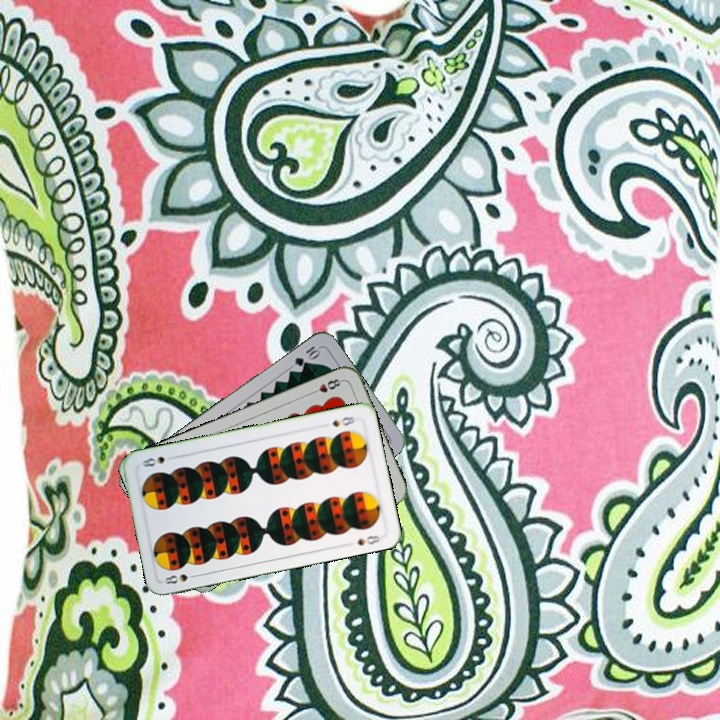G10: (291, 342, 323, 369)
H8: (307, 375, 345, 397)
S8: (160, 570, 201, 587), (328, 412, 360, 429)
